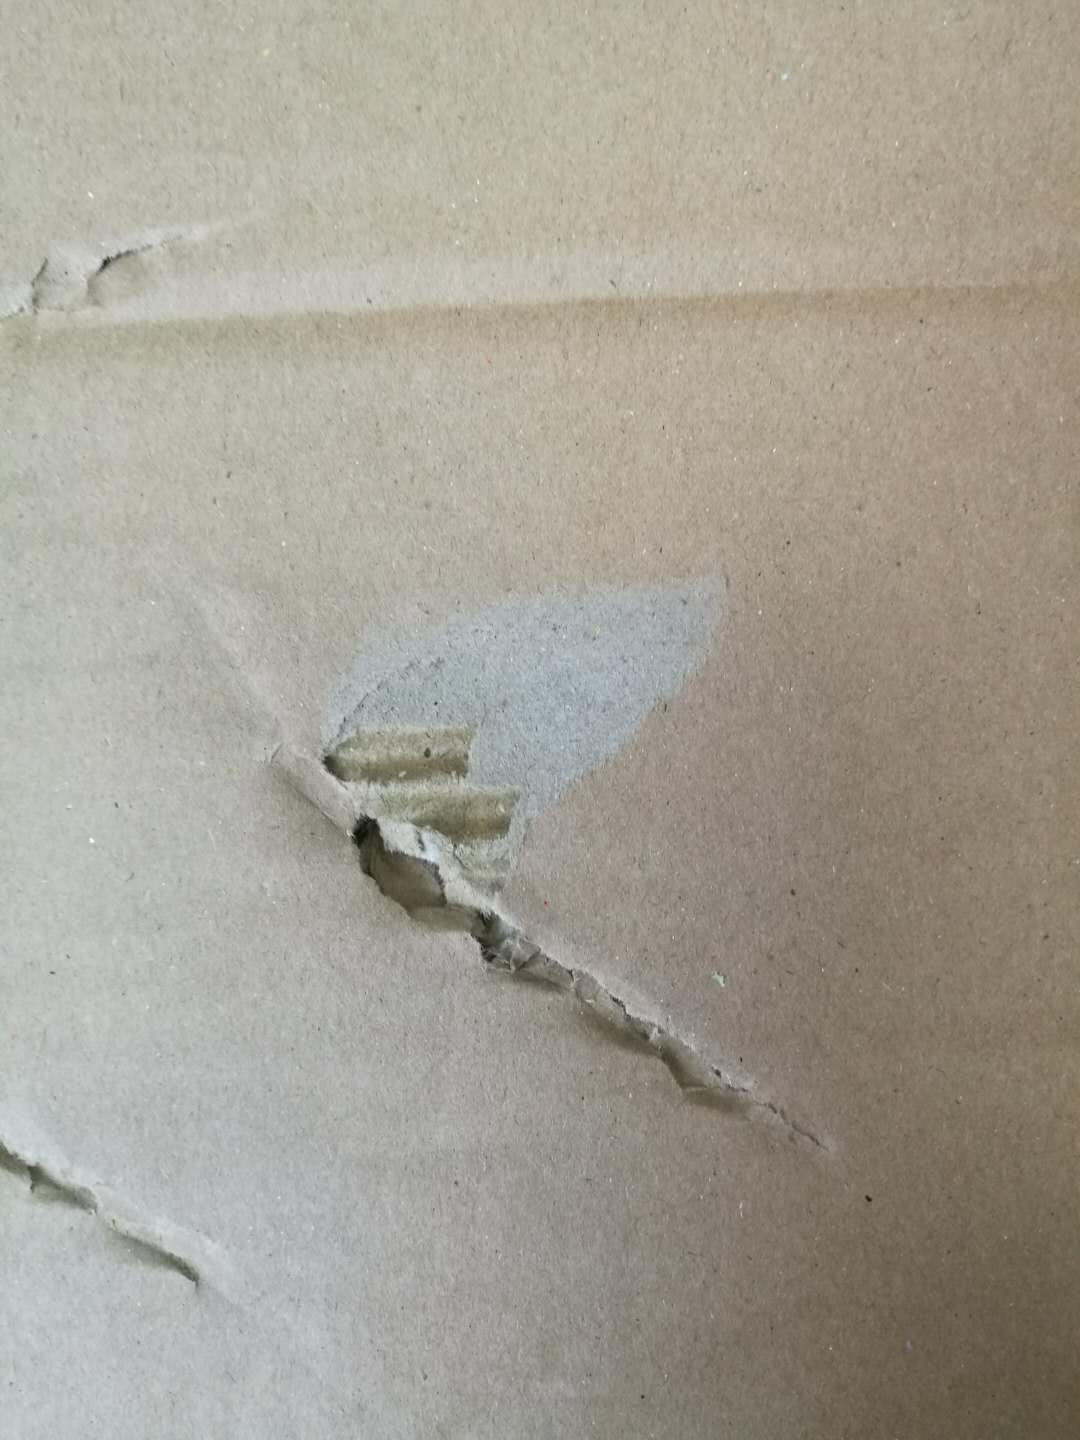defect: (134, 524, 920, 1179), (5, 232, 1074, 422), (3, 1101, 248, 1332), (3, 187, 275, 370)
